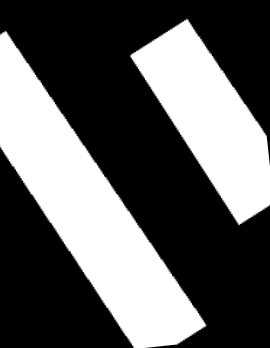parkingspot: (0, 31, 206, 348), (130, 19, 270, 225)
